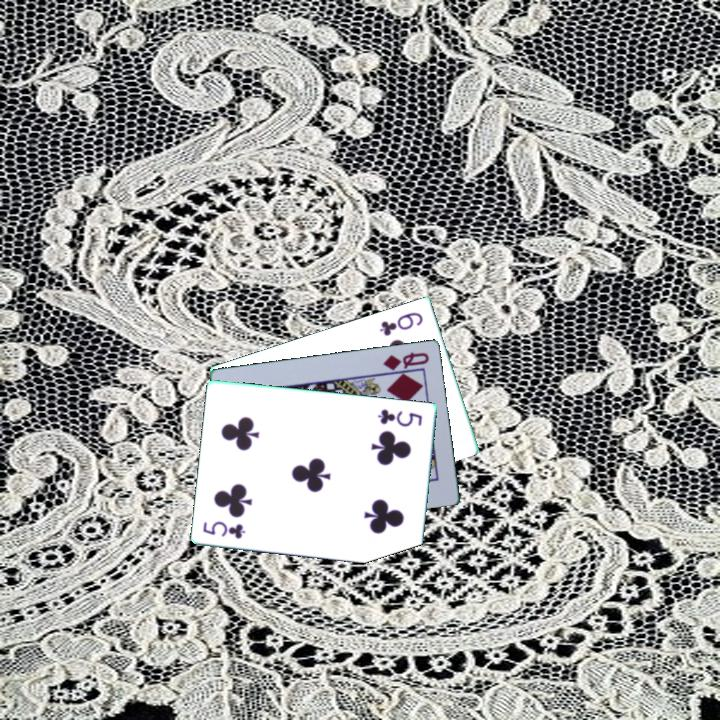5c: (375, 405, 425, 429), (200, 517, 248, 541)
6c: (376, 308, 426, 339)
Qd: (380, 348, 432, 376)
